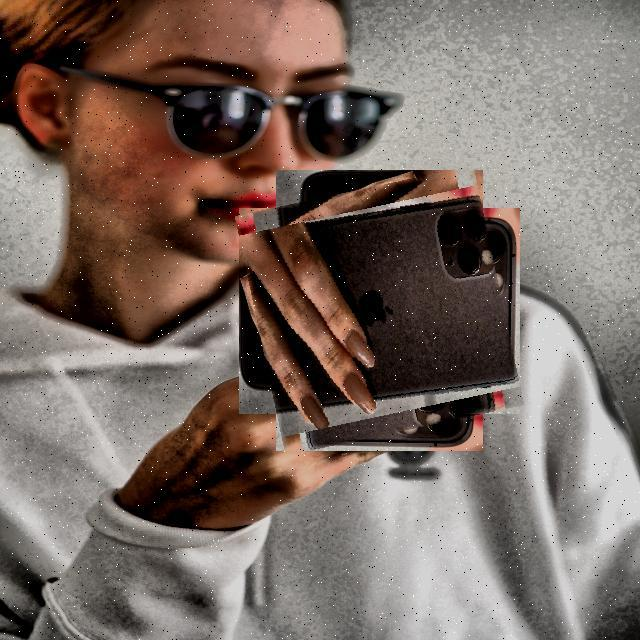Phone: (246, 177, 513, 444)
